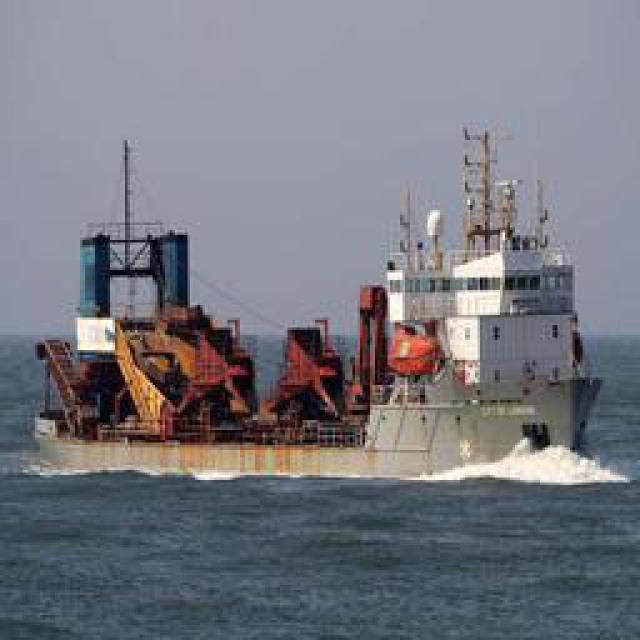Ship: (20, 119, 617, 486)
